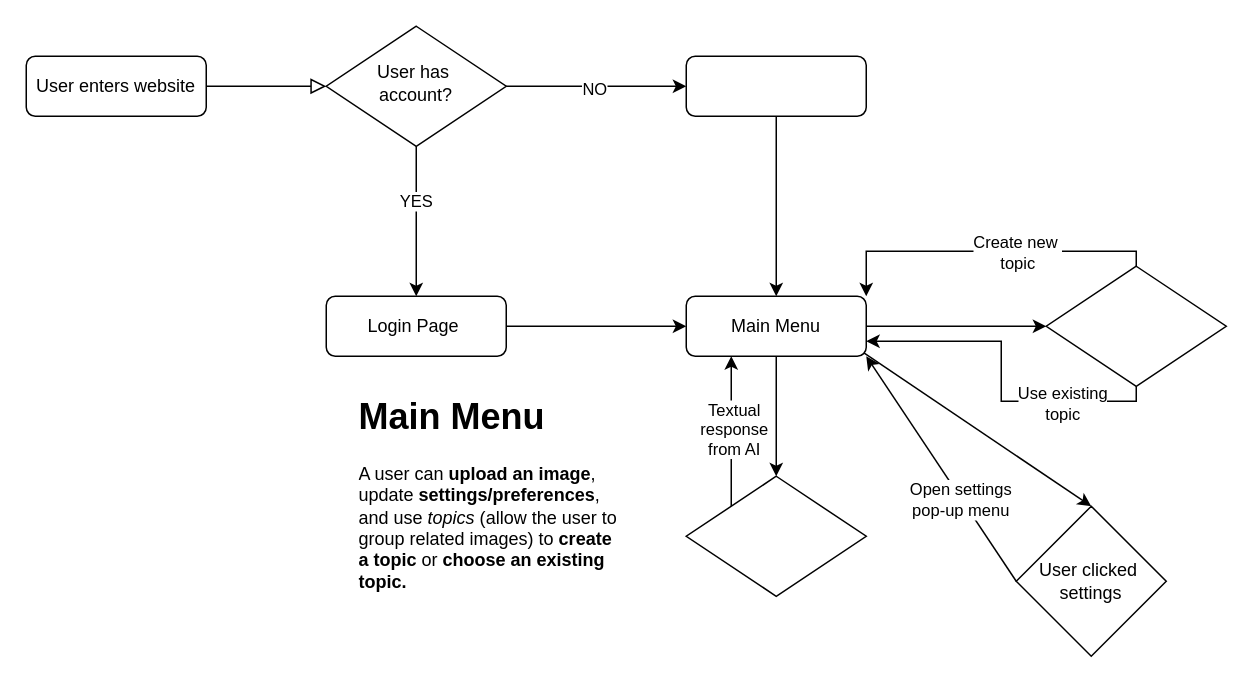
This 1253x683 diagram has some shape labels left out. Here are the shapes that lost their labels. From the top down, the centre of each, then its label:
At [775,85]: "Sign-up Page".
At [1135,325]: "User chooses a topic option".
At [775,535]: "User uploaded image? (drag & drop or file upload)".
